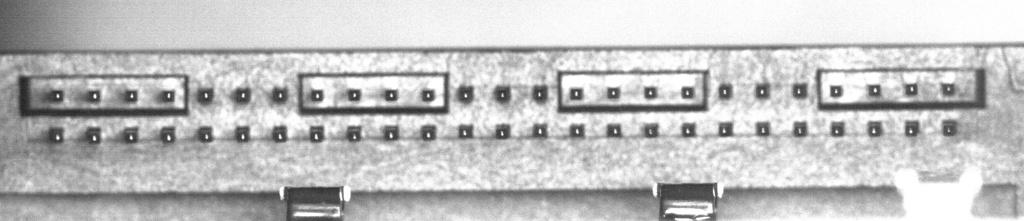pin_ok: (457, 85, 474, 102), (197, 87, 214, 103), (942, 119, 958, 136), (48, 126, 64, 143), (383, 125, 399, 141), (346, 125, 362, 141), (197, 126, 213, 142), (271, 86, 287, 102), (904, 120, 920, 136), (532, 85, 548, 101), (160, 127, 176, 143), (123, 127, 139, 143), (86, 127, 102, 143), (420, 125, 437, 140), (309, 126, 324, 142), (272, 125, 287, 141), (868, 120, 883, 136), (235, 87, 251, 102), (235, 125, 250, 141), (755, 83, 770, 99), (830, 121, 846, 136), (495, 86, 511, 101), (495, 124, 510, 139), (681, 122, 696, 137), (756, 121, 771, 136), (458, 124, 473, 139), (532, 123, 547, 138), (792, 83, 807, 98), (643, 123, 659, 137), (793, 120, 807, 136), (607, 123, 622, 137), (570, 123, 585, 137), (941, 82, 956, 96), (718, 83, 732, 98), (718, 122, 732, 137), (421, 88, 436, 102), (643, 85, 657, 99), (310, 88, 324, 102), (829, 84, 843, 98), (161, 89, 176, 102), (384, 88, 398, 101), (87, 89, 101, 102), (347, 88, 361, 101), (606, 86, 620, 99), (569, 87, 583, 100), (904, 82, 918, 95), (868, 83, 881, 97), (681, 86, 695, 99), (51, 89, 64, 102), (125, 89, 138, 102)
